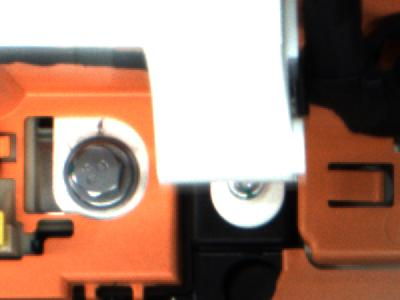nut_b: (59, 131, 135, 214)
